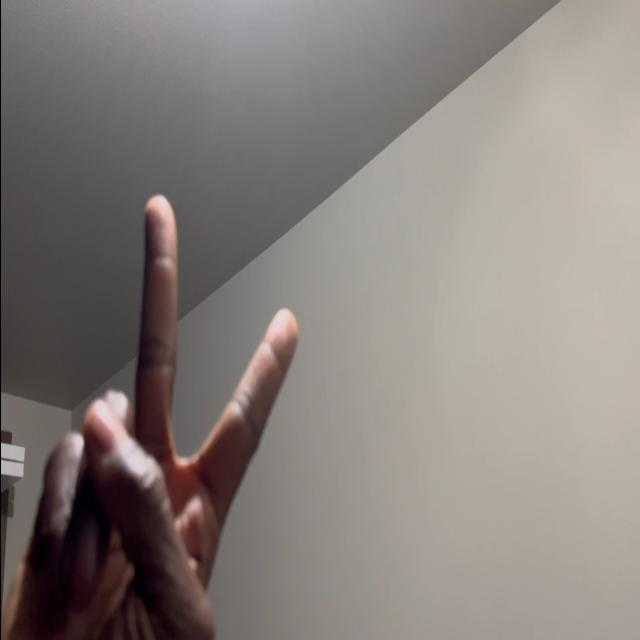Scissors: (0, 189, 301, 640)
